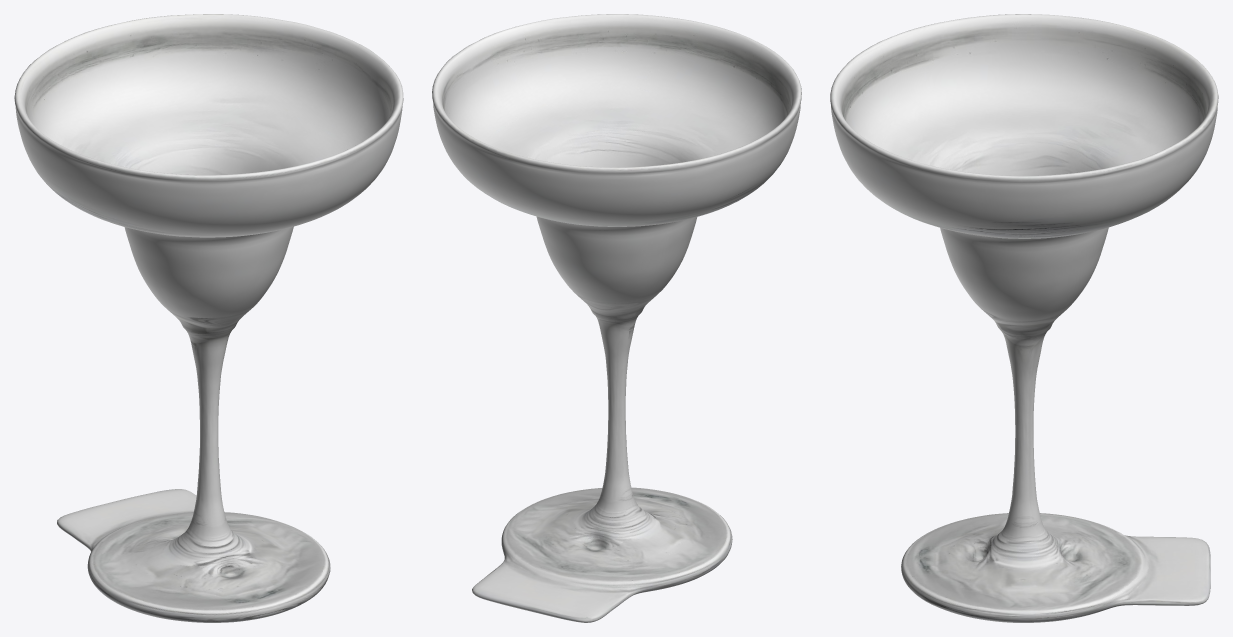
File: model_margarita_glass.glb
3 renders of one model, left to right at view 1: azimuth 30°, elevation 25°; view 2: azimuth 150°, elevation 25°; view 3: azimuth 270°, elevation 25°, orthographic. The views are drawn at different scales.
Parts seen in each view (by area): view 1: tripo_node_5fbe67c1-73a3-4167-9cb3-ddf740c152c3; view 2: tripo_node_5fbe67c1-73a3-4167-9cb3-ddf740c152c3; view 3: tripo_node_5fbe67c1-73a3-4167-9cb3-ddf740c152c3.
Boxes of the visible parts, x1,y1,x2,y2 form: tripo_node_5fbe67c1-73a3-4167-9cb3-ddf740c152c3: (14, 14, 403, 622); tripo_node_5fbe67c1-73a3-4167-9cb3-ddf740c152c3: (432, 14, 801, 622); tripo_node_5fbe67c1-73a3-4167-9cb3-ddf740c152c3: (830, 14, 1218, 622).
Size of the model in its own units: 0.7322 by 0.9998 by 0.7311.
1 material, 1 textured.
